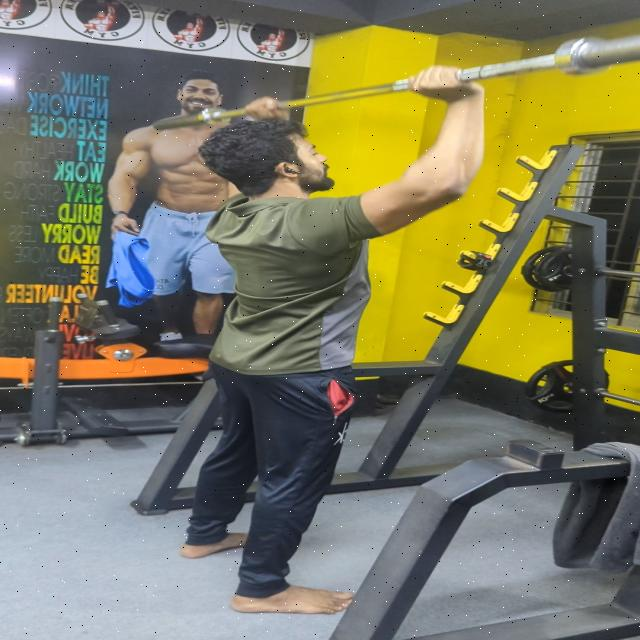Normal_OverheadPress: (112, 33, 506, 634)
